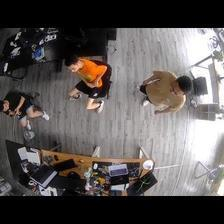normal: (62, 55, 110, 113), (136, 68, 192, 116), (1, 89, 48, 132)
